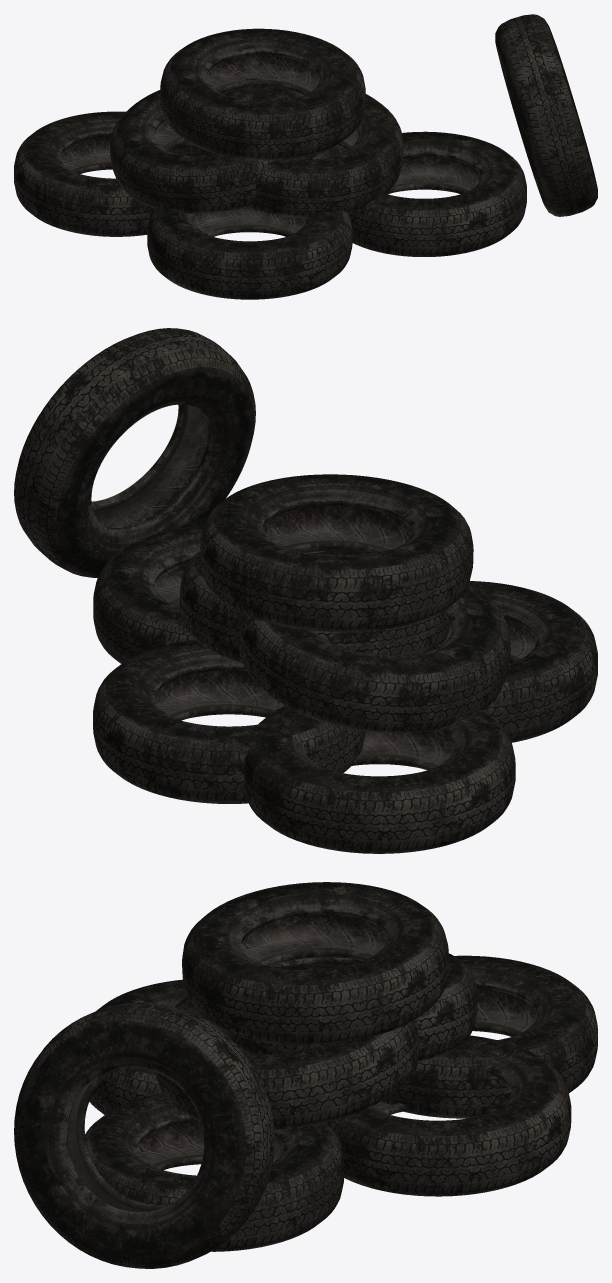
File: lastik_yigini.gltf
3 renders of one model, top to bottom at view 1: azimuth 30°, elevation 25°; view 2: azimuth 150°, elevation 25°; view 3: azimuth 270°, elevation 25°, orthographic. The views are drawn at different scales.
Parts seen in each view (by area): view 1: lastik_yigini; view 2: lastik_yigini; view 3: lastik_yigini.
Boxes of the visible parts, box(x1,y1,x2,y2) form: lastik_yigini: box(14, 14, 597, 299); lastik_yigini: box(14, 328, 597, 853); lastik_yigini: box(14, 882, 597, 1268).
Size of what is drawn, in the model's own units: 1.52 by 0.6177 by 1.31.
1 material, 1 textured.
